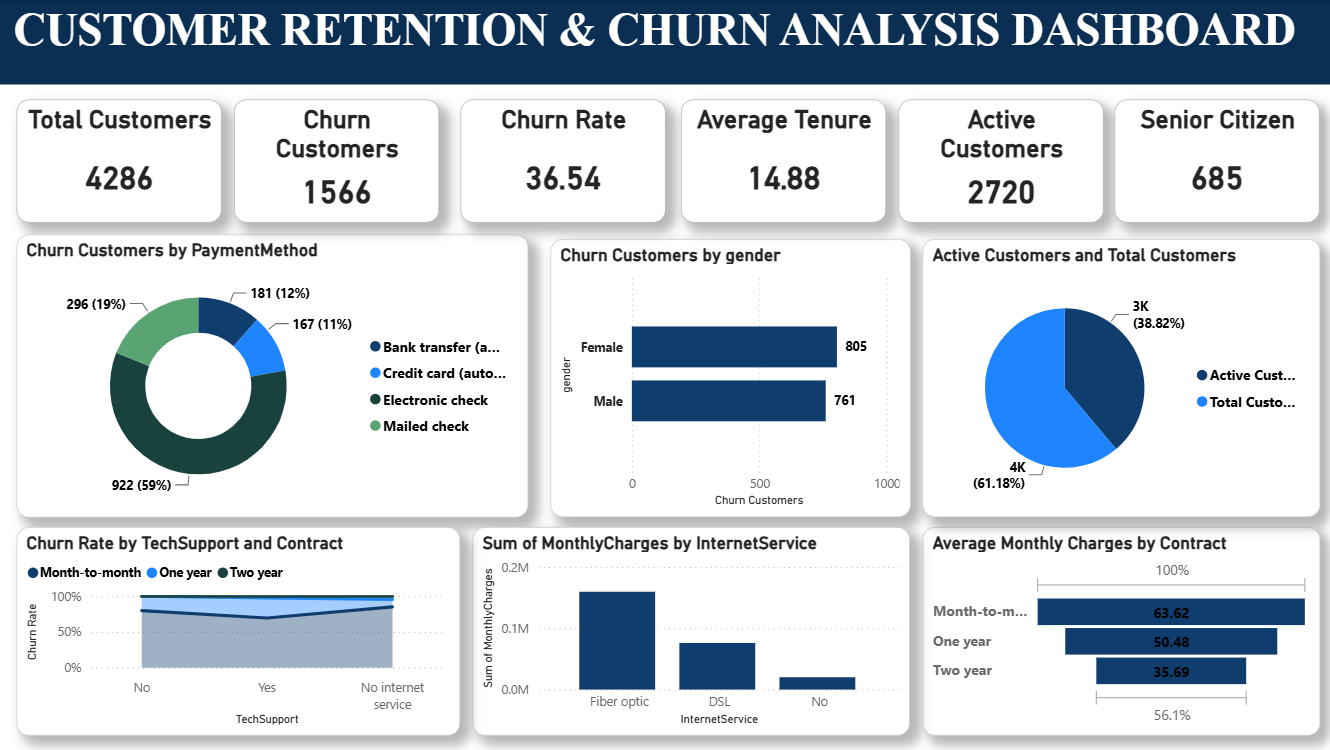

Layout of this report page (visuals, bound fields, positions):
{"tool":"powerbi","page":{"name":"Page 1","canvas":[1280,720],"ordinal":0},"visuals":[{"type":"card","title":"Total Customers","fields":{"Values":["Measures (2).Total Customers"]},"box":[18.2,96.9,196.8,118.1],"z":0},{"type":"barChart","fields":{"Y":["Measures (2).Churn Customers"],"Category":["Telco-Customer-Churn.gender"]},"box":[530,230.2,345.2,266.5],"z":3},{"type":"donutChart","fields":{"Y":["Measures (2).Churn Customers"],"Series":["Telco-Customer-Churn.PaymentMethod"]},"box":[18.2,225.6,490.6,271],"z":4},{"type":"textbox","box":[0,0,1279.5,81.8],"z":6},{"type":"card","title":"Churn Customers","fields":{"Values":["Measures (2).Churn Customers"]},"box":[227.1,96.9,196.8,118.1],"z":7},{"type":"card","title":"Churn Rate","fields":{"Values":["Measures (2).Churn Rate"]},"box":[443.7,96.9,196.8,118.1],"z":8},{"type":"card","title":"Average Tenure","fields":{"Values":["Measures (2).Average Tenure"]},"box":[655.7,96.9,196.8,118.1],"z":9},{"type":"card","title":"Active Customers","fields":{"Values":["Measures (2).Active Customers"]},"box":[864.6,96.9,196.8,118.1],"z":10},{"type":"card","title":"Senior Citizen","fields":{"Values":["Sum(Telco-Customer-Churn.SeniorCitizen)"]},"box":[1072.1,96.9,196.8,118.1],"z":11},{"type":"funnel","fields":{"Y":["Measures (2).Average Monthly Charges"],"Category":["Telco-Customer-Churn.Contract"]},"box":[887.3,505.7,381.6,199.9],"z":12},{"type":"lineClusteredColumnComboChart","fields":{"Category":["Telco-Customer-Churn.InternetService"],"Y":["Sum(Telco-Customer-Churn.MonthlyCharges)"]},"box":[455.8,505.7,419.4,199.9],"z":13},{"type":"hundredPercentStackedAreaChart","fields":{"Y":["Measures (2).Churn Rate"],"Category":["Telco-Customer-Churn.TechSupport"],"Series":["Telco-Customer-Churn.Contract"]},"box":[18.2,505.7,425.5,199.9],"z":14},{"type":"pieChart","fields":{"Y":["Measures (2).Active Customers","Measures (2).Total Customers"]},"box":[887.3,230.2,381.6,266.5],"z":15}]}

Visuals, with their boxes in screenshot pixels (x1, y1, x2, y2), scaled from the page's 1280x720 canvas onto the 1330x750 screenshot:
"Total Customers" card: <region>19, 101, 223, 224</region>
barChart - Measures (2).Churn Customers x Telco-Customer-Churn.gender: <region>551, 240, 909, 517</region>
donutChart - Measures (2).Churn Customers x Telco-Customer-Churn.PaymentMethod: <region>19, 235, 529, 517</region>
textbox: <region>0, 0, 1329, 85</region>
"Churn Customers" card: <region>236, 101, 440, 224</region>
"Churn Rate" card: <region>461, 101, 666, 224</region>
"Average Tenure" card: <region>681, 101, 886, 224</region>
"Active Customers" card: <region>898, 101, 1103, 224</region>
"Senior Citizen" card: <region>1114, 101, 1318, 224</region>
funnel - Measures (2).Average Monthly Charges x Telco-Customer-Churn.Contract: <region>922, 527, 1318, 735</region>
lineClusteredColumnComboChart - Telco-Customer-Churn.InternetService x Sum(Telco-Customer-Churn.MonthlyCharges): <region>474, 527, 909, 735</region>
hundredPercentStackedAreaChart - Measures (2).Churn Rate x Telco-Customer-Churn.TechSupport: <region>19, 527, 461, 735</region>
pieChart - Measures (2).Active Customers x Measures (2).Total Customers: <region>922, 240, 1318, 517</region>
